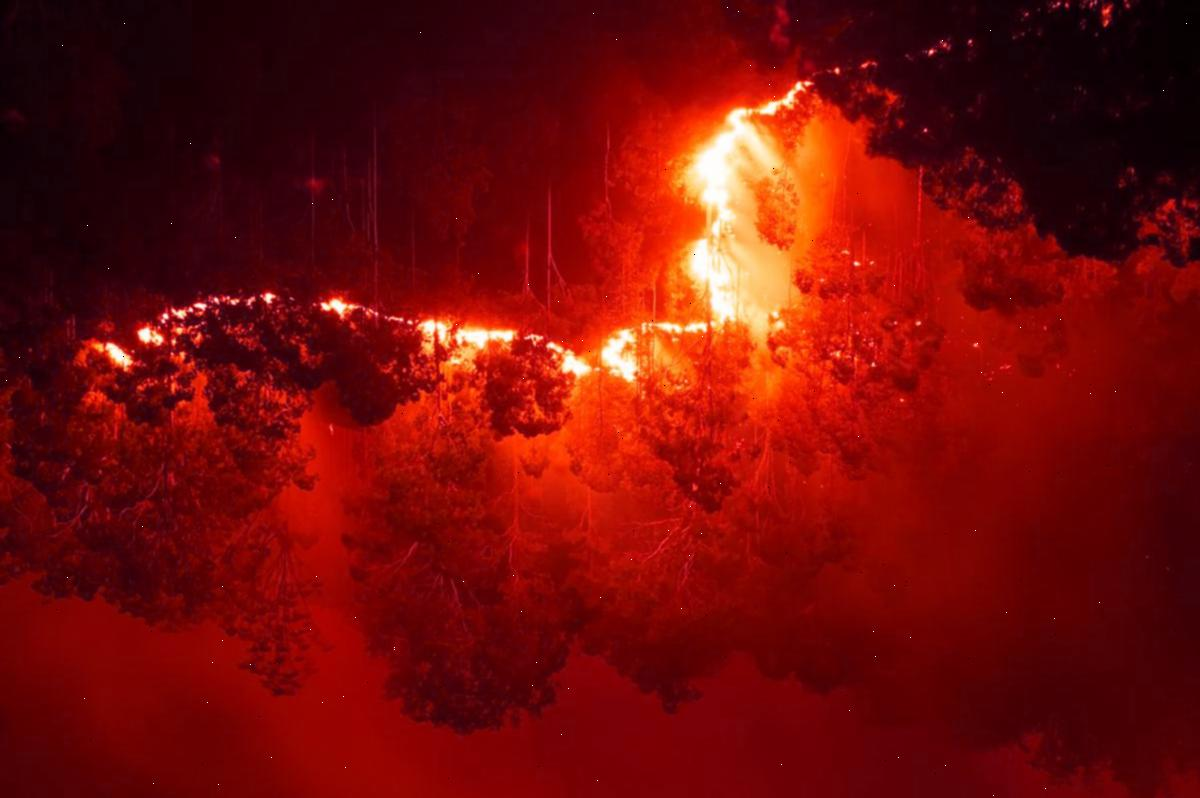fire: (337, 40, 875, 506), (57, 284, 314, 416)
